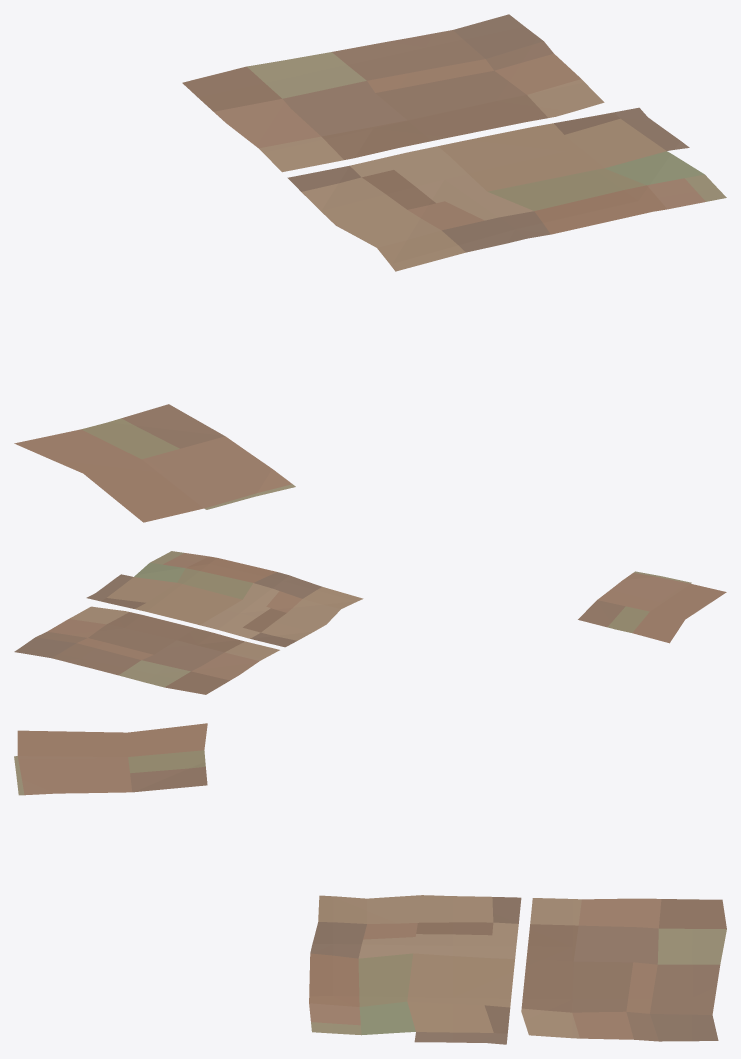
The model's file is farm_22_14_soil.glb.
The picture shows the model from 3 angles, top to bottom: view 1: azimuth 30°, elevation 25°; view 2: azimuth 150°, elevation 25°; view 3: azimuth 270°, elevation 25°; orthographic projection. The views are drawn at different scales.
Visible parts, largest first — view 1: geometry_0; view 2: geometry_0; view 3: geometry_0.
Part boxes in pixels (box(x1,y1,x2,y2)): geometry_0: box(14, 14, 726, 522); geometry_0: box(14, 551, 726, 694); geometry_0: box(14, 723, 726, 1044).
Size of the model in its own units: 522 by 15.05 by 477.
